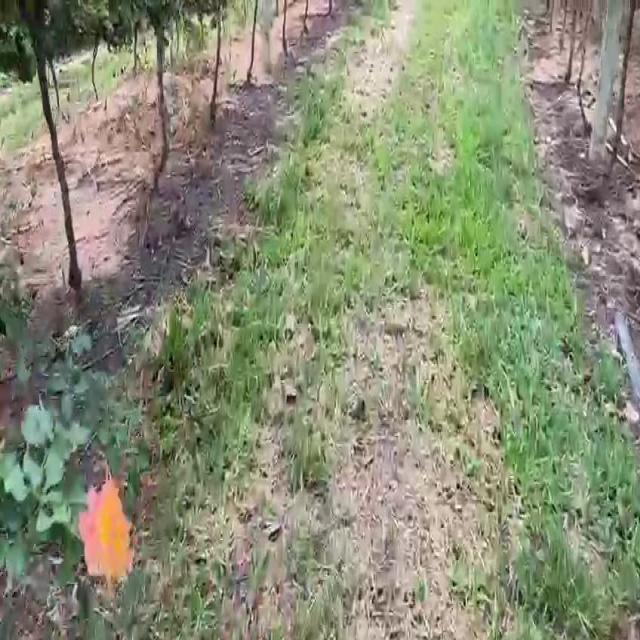tree trunk: (20, 0, 80, 292), (34, 40, 80, 292), (588, 0, 631, 161), (154, 27, 168, 185), (210, 3, 221, 125)
